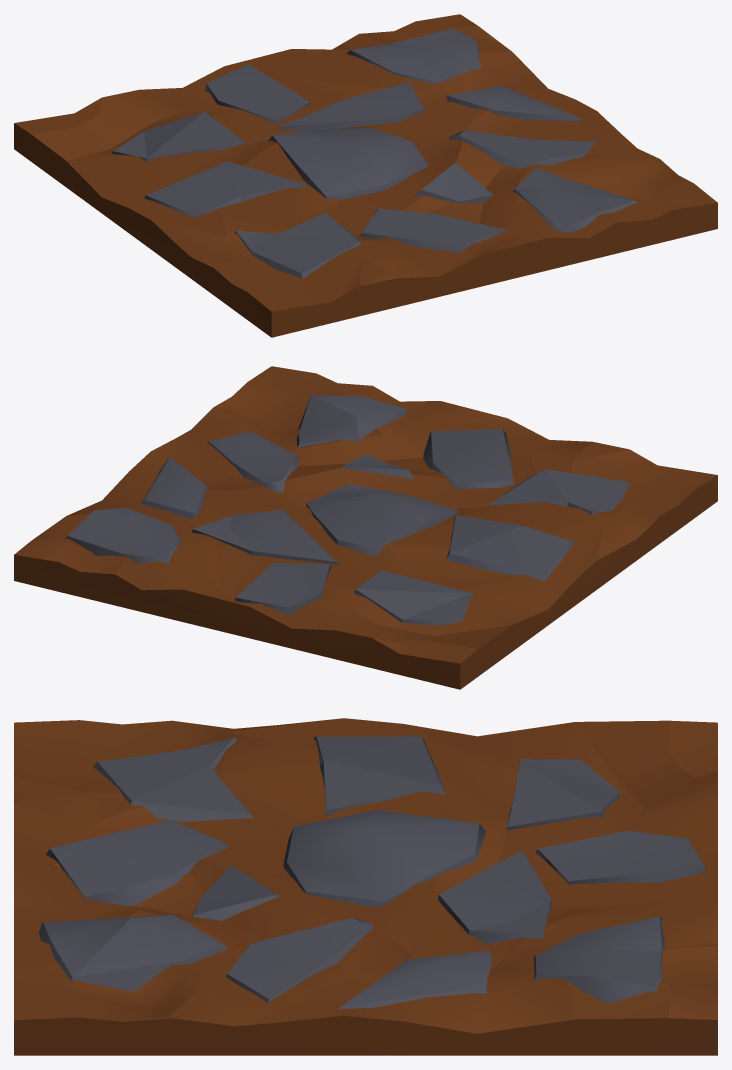
File: Ground_Stones_1.fbx
The picture shows the model from 3 angles, top to bottom: view 1: azimuth 30°, elevation 25°; view 2: azimuth 150°, elevation 25°; view 3: azimuth 270°, elevation 25°; orthographic projection. The views are drawn at different scales.
Parts seen in each view (by area): view 1: Ground_Stones_1; view 2: Ground_Stones_1; view 3: Ground_Stones_1.
Boxes of the visible parts, x1,y1,x2,y2 form: Ground_Stones_1: (14,14,717,337); Ground_Stones_1: (14,366,717,689); Ground_Stones_1: (14,718,717,1055).
Bounding box in the file's own units: 147 × 15.7 × 147.
